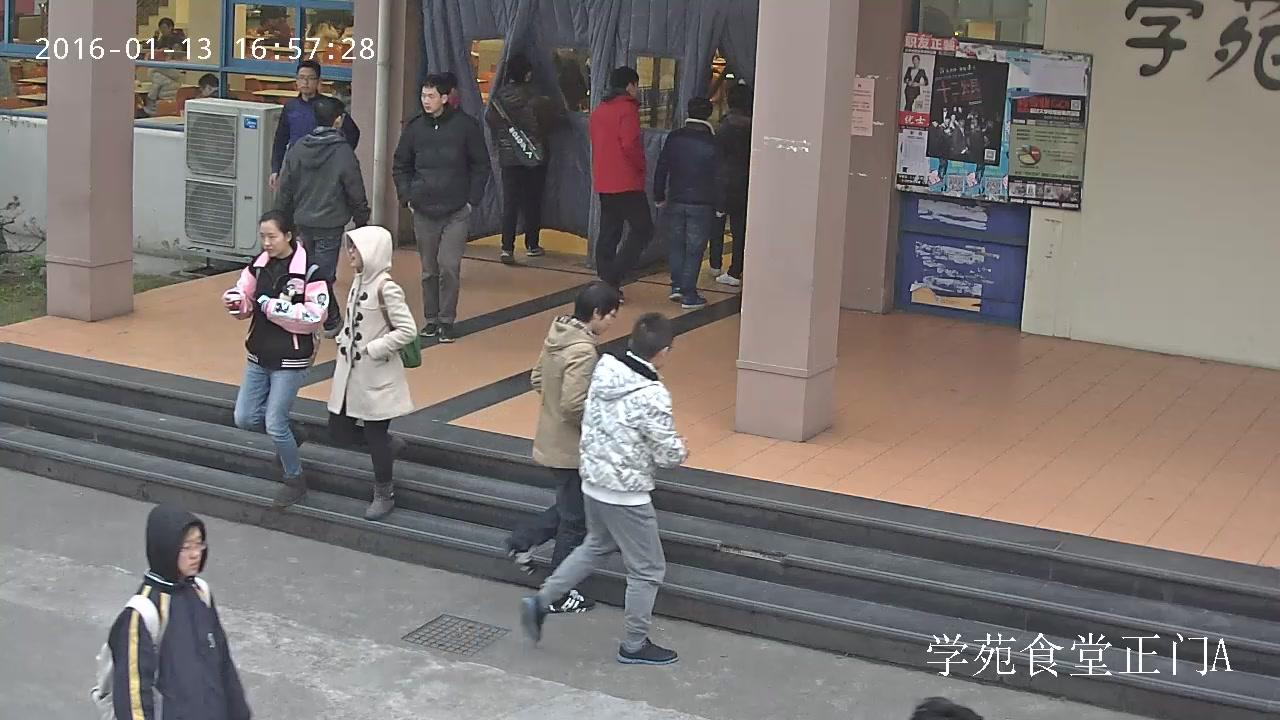person: (519, 311, 688, 664), (500, 281, 621, 612), (87, 503, 252, 720), (220, 209, 330, 507), (329, 224, 424, 523), (391, 73, 490, 342), (275, 96, 371, 340), (588, 64, 654, 300), (484, 52, 557, 263), (651, 96, 723, 309), (265, 59, 360, 192), (715, 84, 753, 286), (133, 49, 183, 118), (903, 54, 929, 111), (154, 16, 186, 55)
